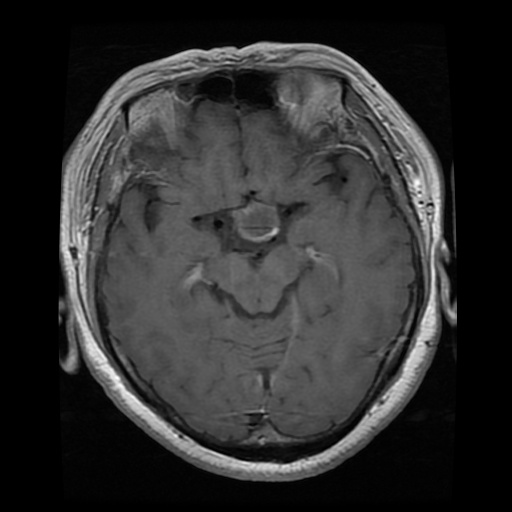pituitary: (234, 201, 280, 242)
